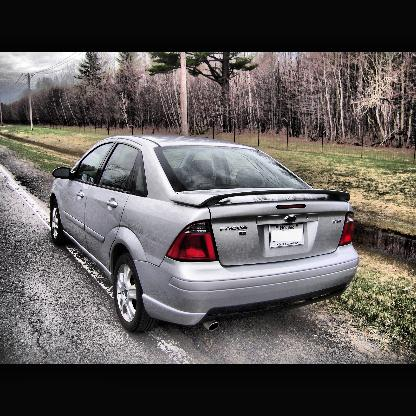Ford Focus Sedan 2007: (49, 135, 359, 336)
